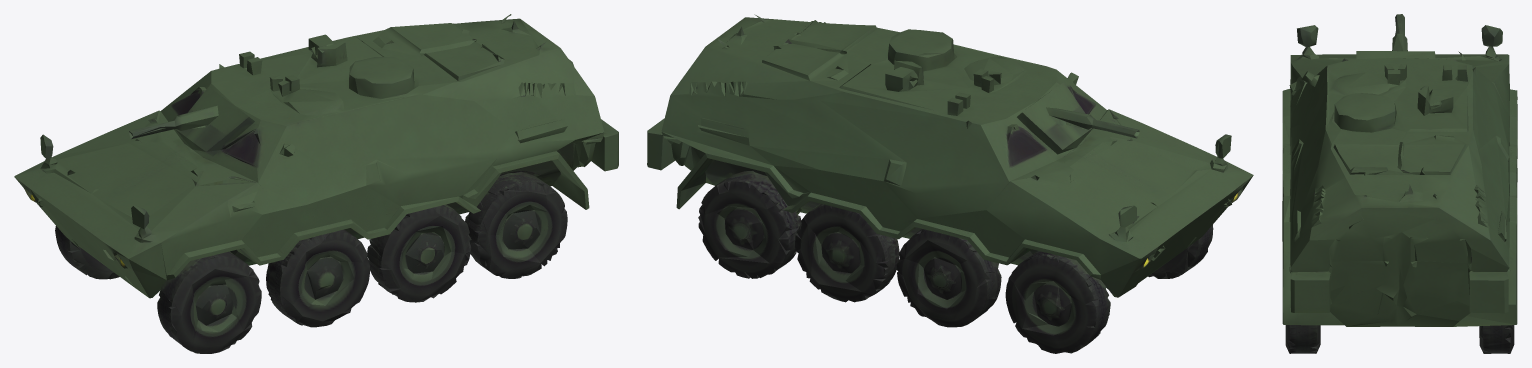
3 renders of one model, left to right at view 1: azimuth 30°, elevation 25°; view 2: azimuth 150°, elevation 25°; view 3: azimuth 270°, elevation 25°, orthographic. The views are drawn at different scales.
Visible parts, largest first — view 1: output_unwrapped; view 2: output_unwrapped; view 3: output_unwrapped.
Boxes of the visible parts, x1=… form: output_unwrapped: x1=14, y1=14, x2=618, y2=353; output_unwrapped: x1=647, y1=14, x2=1253, y2=353; output_unwrapped: x1=1282, y1=14, x2=1517, y2=353.
Size of the model in its own units: 1.9 by 0.7709 by 0.8153.
1 material, 1 textured.
